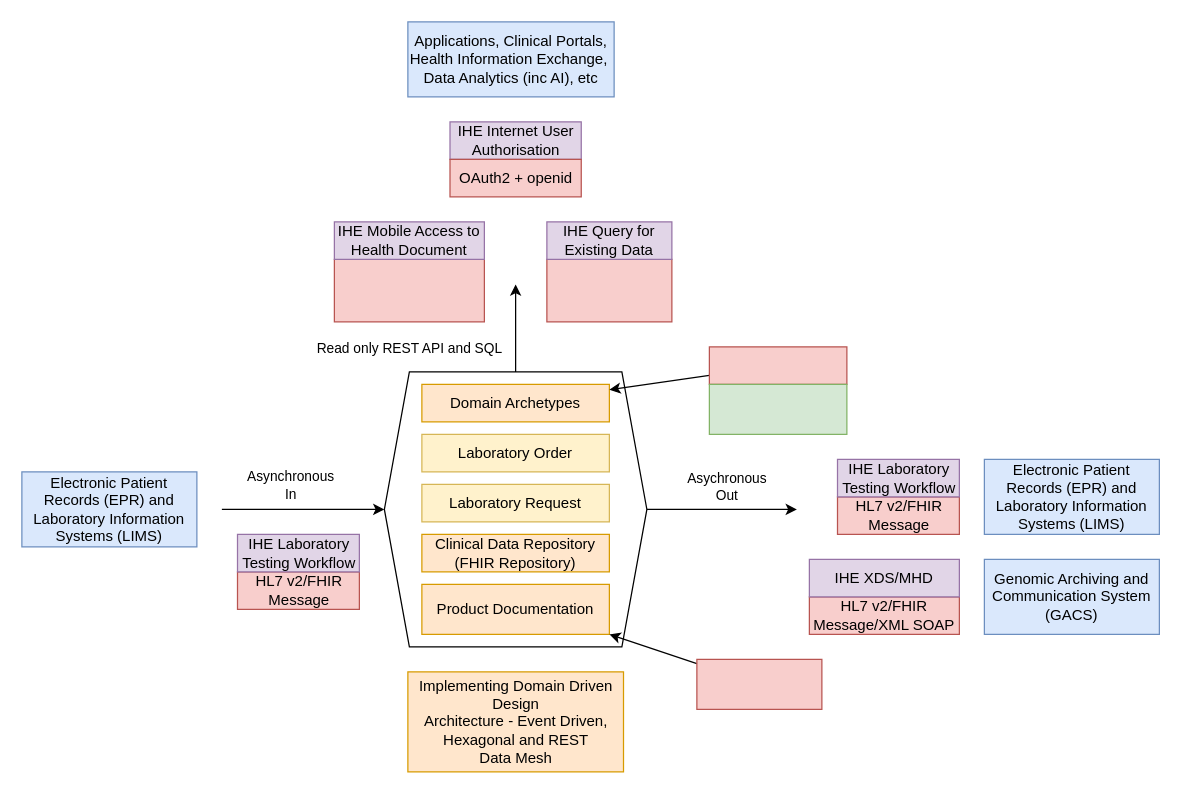
Image size: 1181x794. Some labels were removed from this diagram. Each missing label, with the centre of its shape:
FHIR Implementation Guide: [759,683]
FHIR Questionnaire /openEHR: [777,408]
HL7 FHIR RESTful (Read Only): [609,290]
HL7 FHIR RESTful (Read Only) (IHE XDS SOAP): [408,290]
Templataes / Composition: [777,365]
